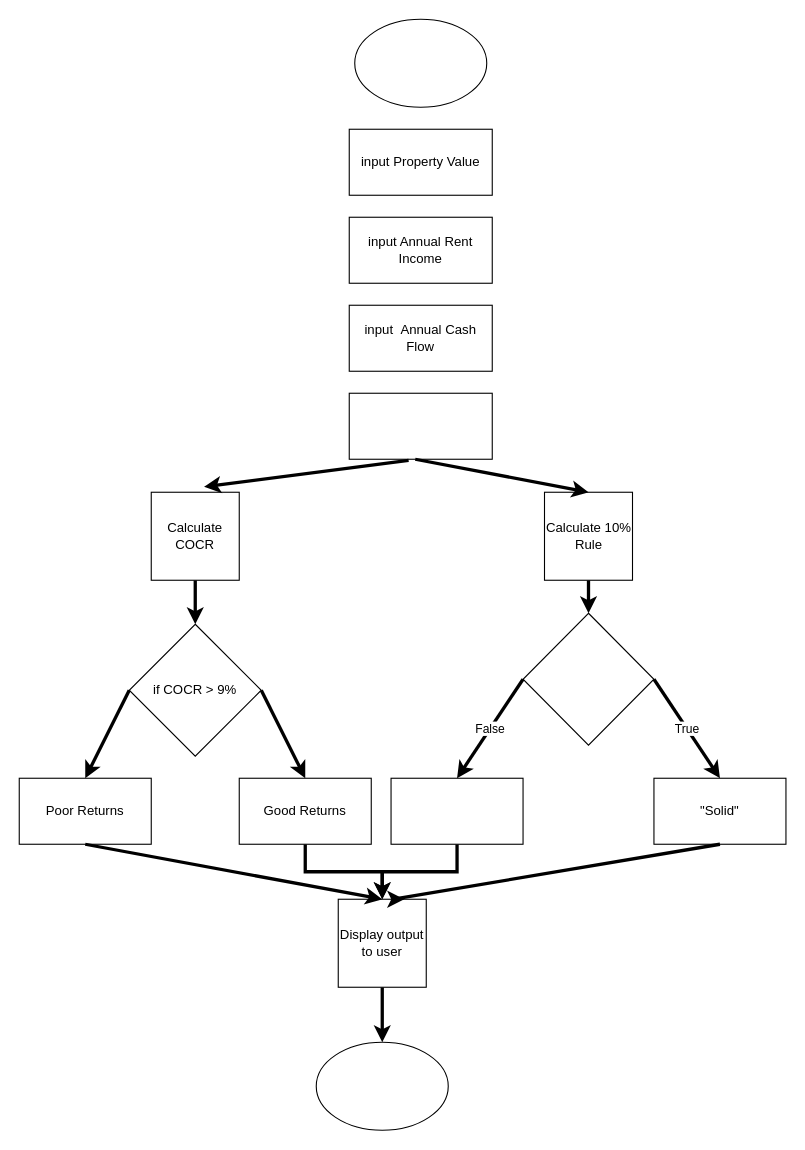
Image size: 805x1150. Some labels were removed from this diagram. The box of each missing label's shape, as (x1, y1, x2, y2) in pixels:
"Risky": (390, 777, 523, 844)
Finish: (315, 1041, 448, 1130)
input Total Cash Invested: (348, 392, 492, 459)
Is 10% rule > 10%: (522, 612, 654, 745)
Start: (354, 18, 487, 107)
